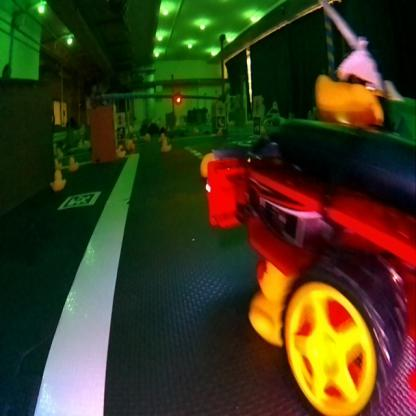Duckie: (315, 40, 382, 126), (248, 258, 290, 340), (51, 171, 65, 189), (67, 158, 78, 170), (160, 140, 168, 150), (126, 140, 134, 150), (116, 146, 124, 154)
Duckiebot: (238, 122, 413, 412)
QR code: (56, 190, 100, 210)
Traffic light: (175, 90, 182, 104)
